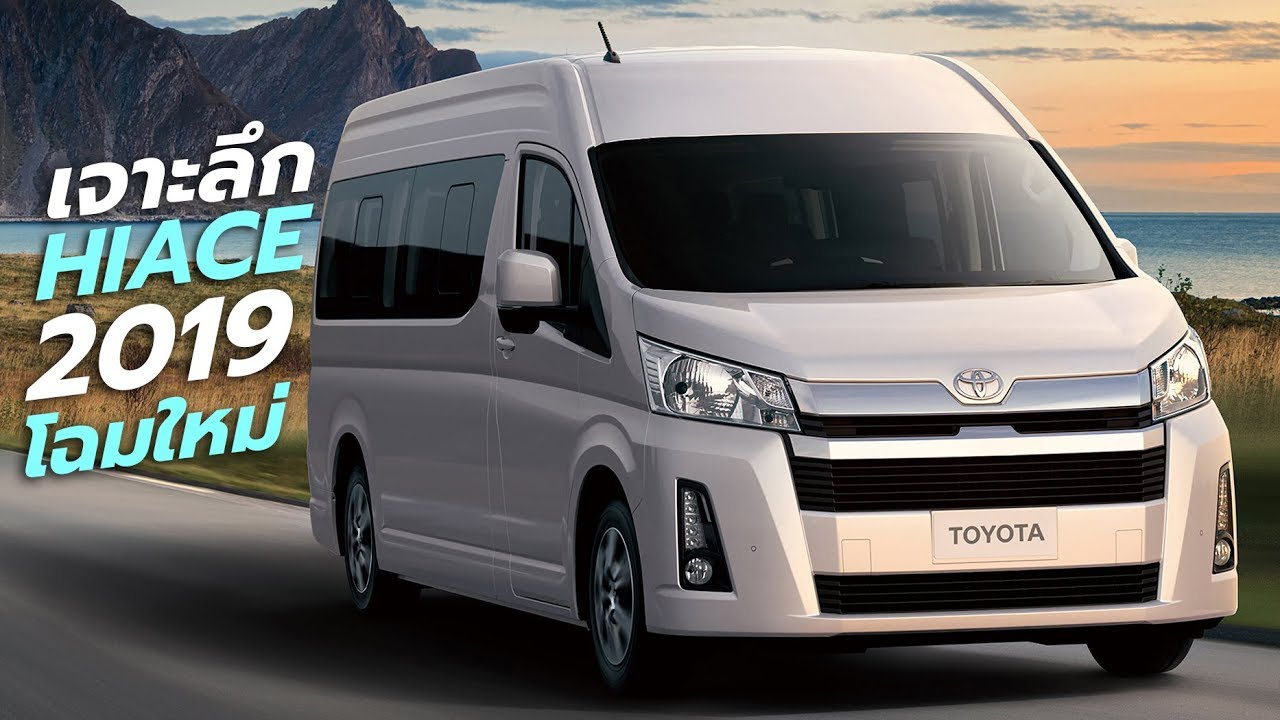van: (304, 41, 1245, 702)
